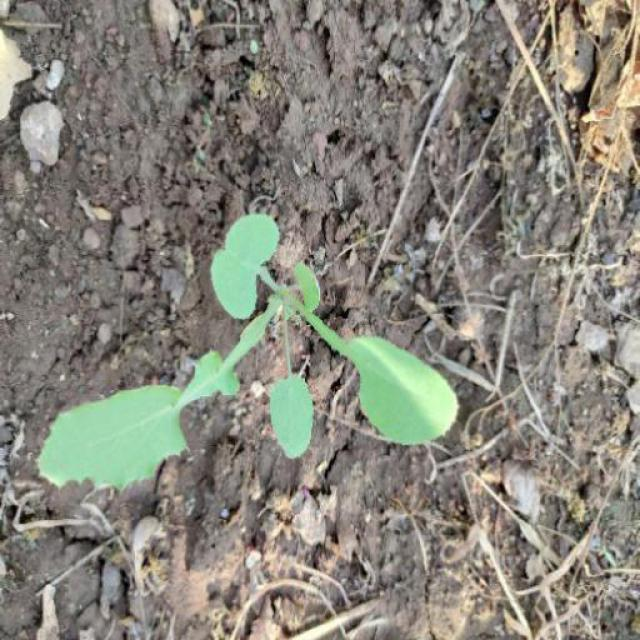weed: (30, 210, 469, 536)
